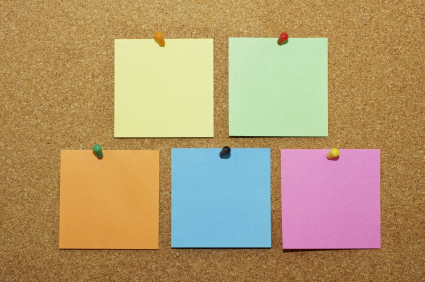blue_sticky_note: (170, 148, 271, 249)
green_sticky_note: (227, 37, 328, 136)
orange_sticky_note: (58, 149, 159, 249)
pink_sticky_note: (280, 148, 381, 250)
yellow_sticky_note: (113, 38, 214, 137)
